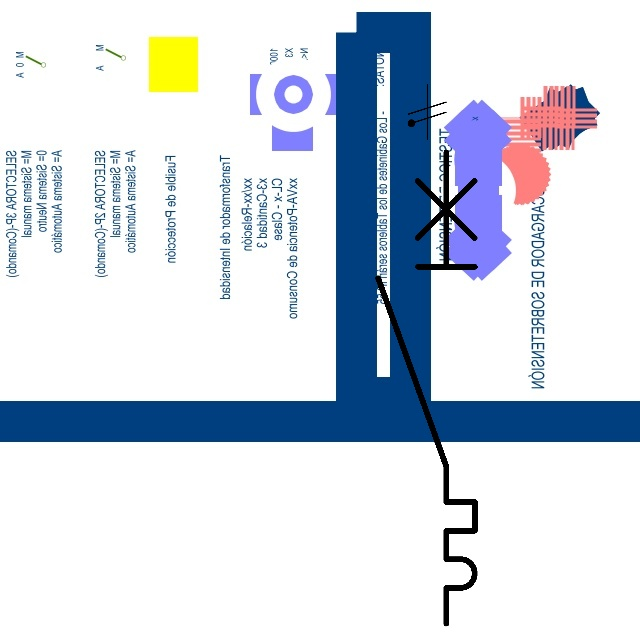interruptor_termomagnetico: (366, 140, 487, 636)
